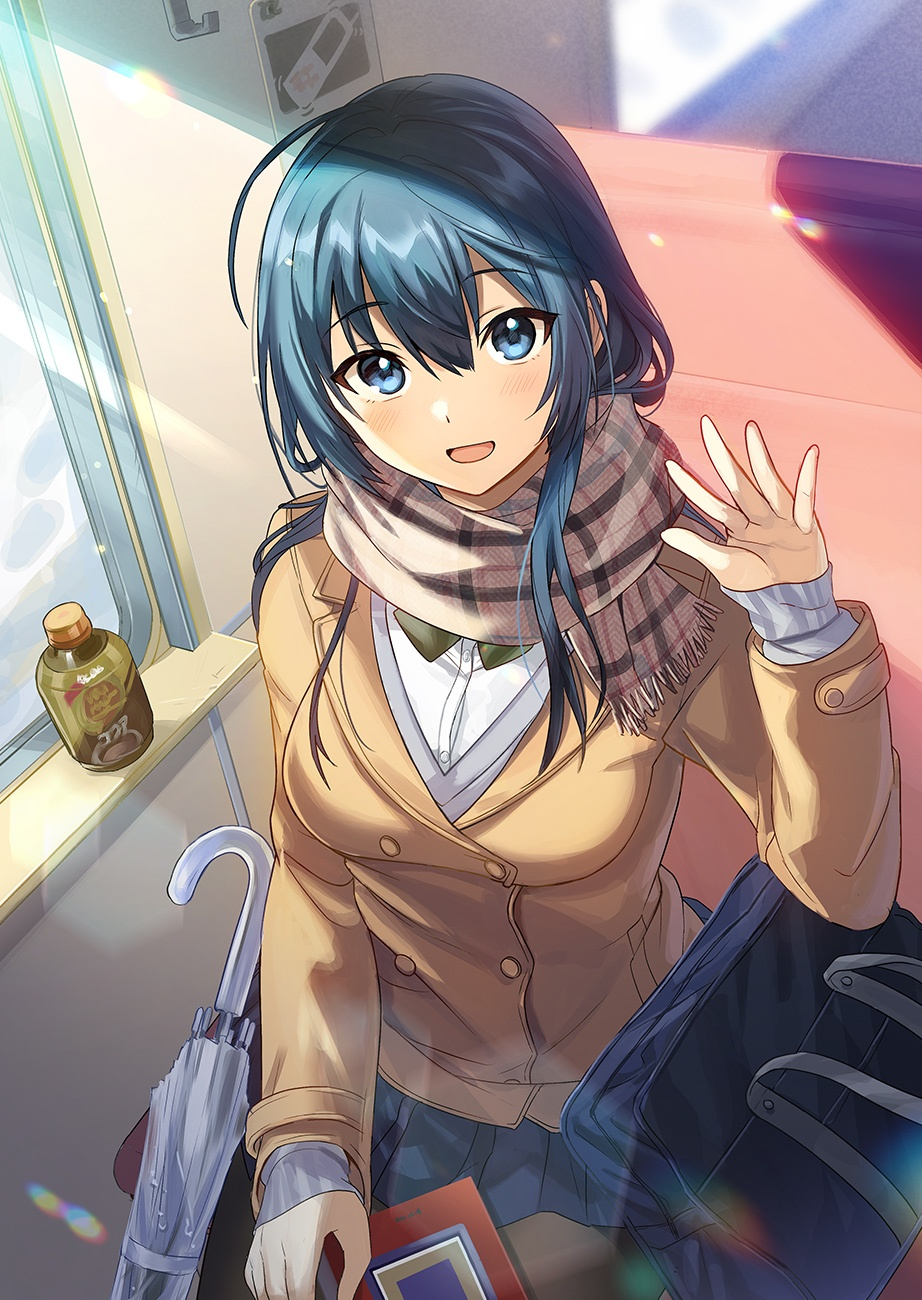纸片人正脸: (235, 76, 643, 514)
